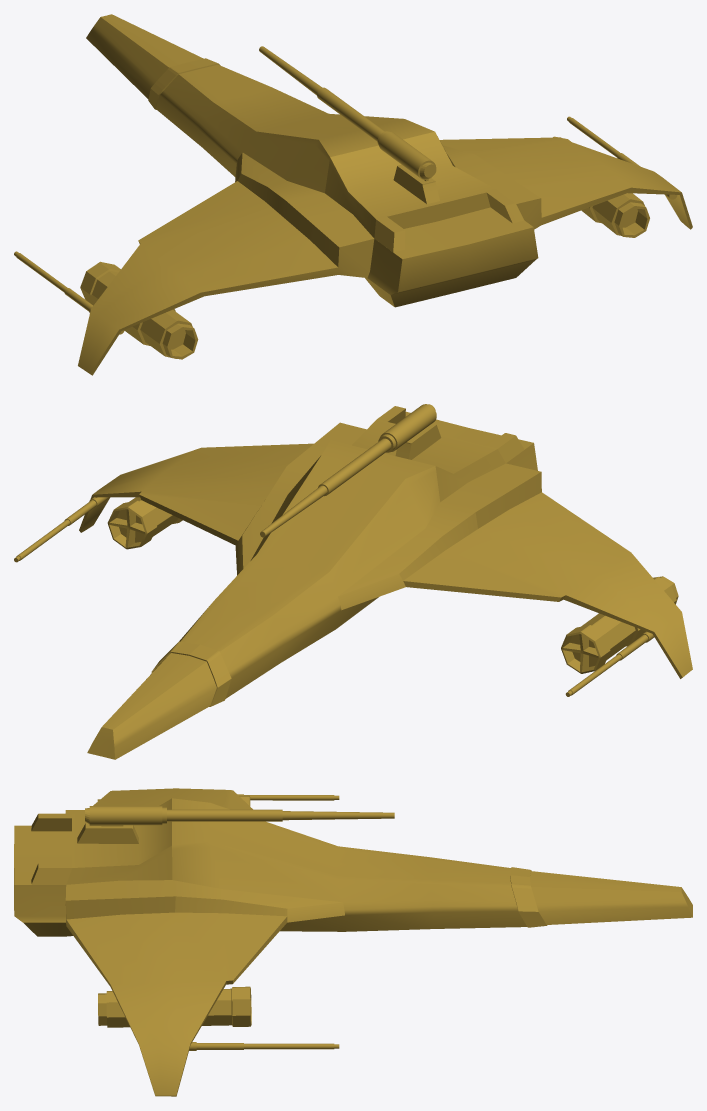
Rendered from nave.glb.
3 renders of one model, top to bottom at view 1: azimuth 30°, elevation 25°; view 2: azimuth 150°, elevation 25°; view 3: azimuth 270°, elevation 25°, orthographic. The views are drawn at different scales.
Parts seen in each view (by area): view 1: group4; view 2: group4; view 3: group4.
Boxes of the visible parts, x1,y1,x2,y2 form: group4: [14, 14, 692, 375]; group4: [14, 404, 692, 759]; group4: [14, 788, 692, 1096].
Bounding box in the file's own units: 26.96 × 7.15 × 28.43.
